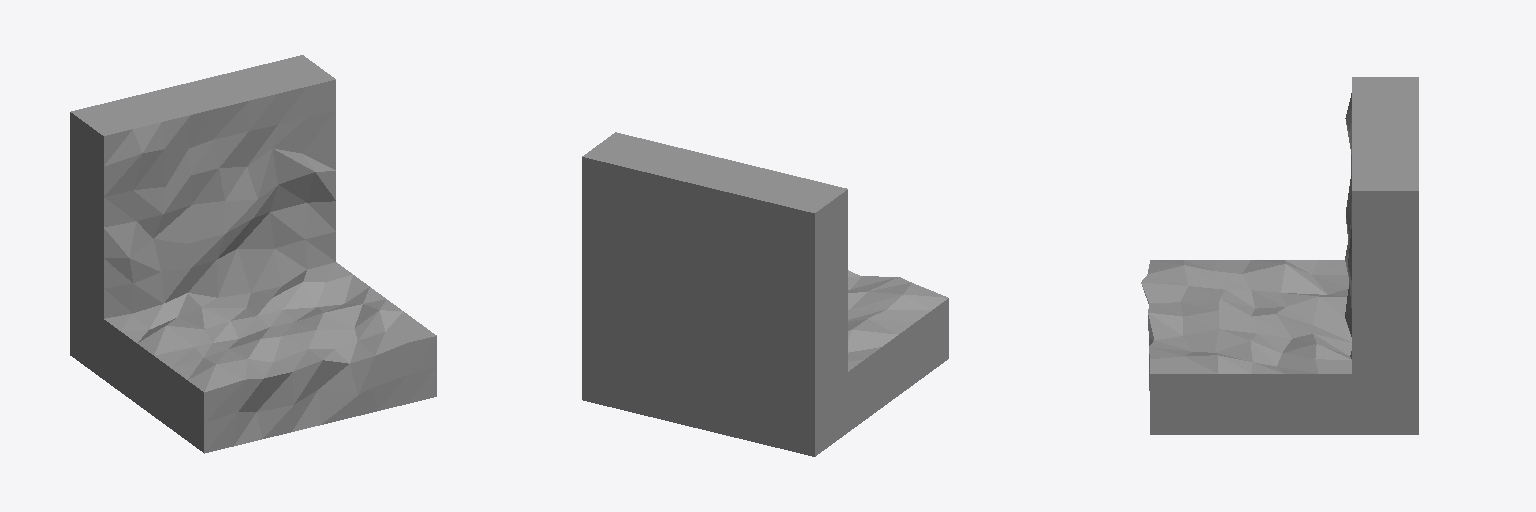
The model's file is startSide.obj.
3 views of the same model, side by side, from view 1: azimuth 30°, elevation 25°; view 2: azimuth 150°, elevation 25°; view 3: azimuth 270°, elevation 25° (orthographic).
Parts seen in each view (by area): view 1: Cube; view 2: Cube; view 3: Cube.
Boxes of the visible parts, x1,y1,x2,y2 form: Cube: [70, 55, 436, 453]; Cube: [582, 132, 948, 456]; Cube: [1141, 77, 1418, 434].
Bounding box in the file's own units: 2 × 2 × 2.07.